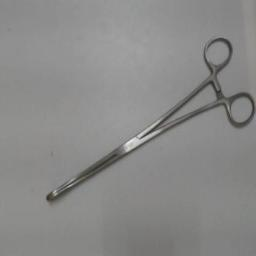Sponge Forceps: (38, 30, 256, 208)
